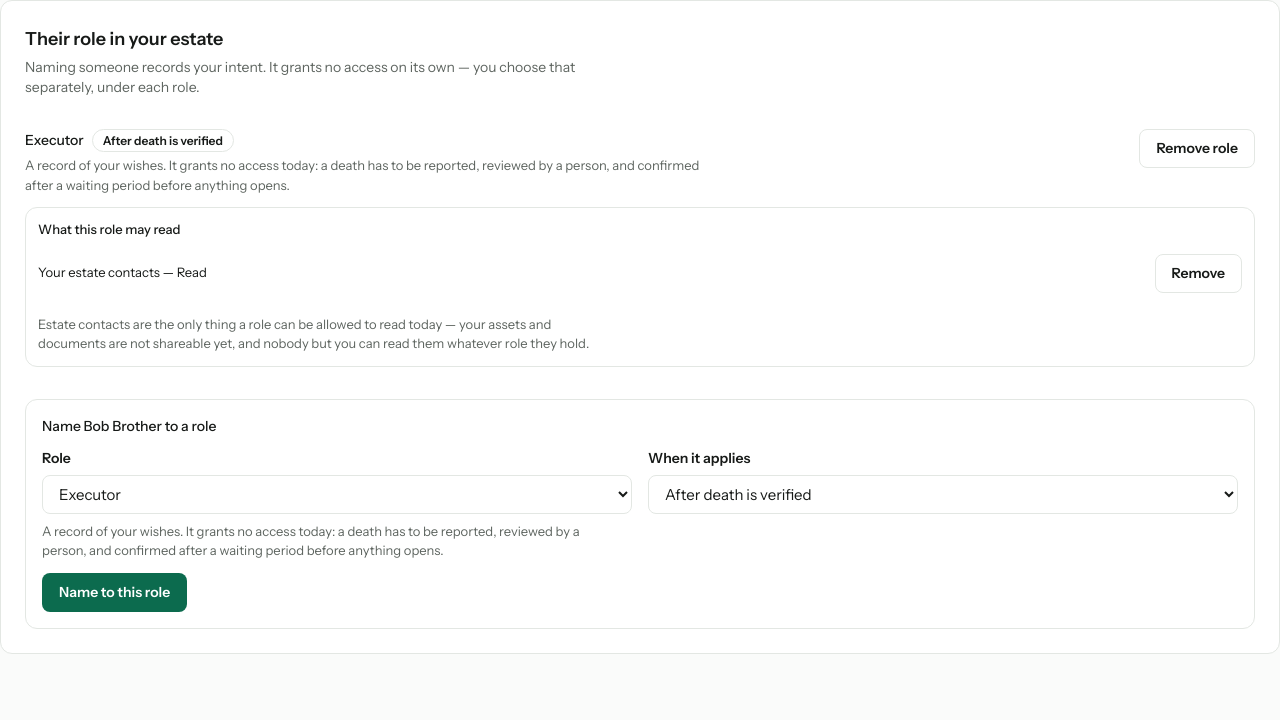
the three-way step-up asymmetry › withdraws a permission with NO code prompt at all
Expected: the text "Your estate contacts — Read" is shown, [38,263,207,283]
Click the button "Remove": point(1198, 273) [1154,254,1242,293]
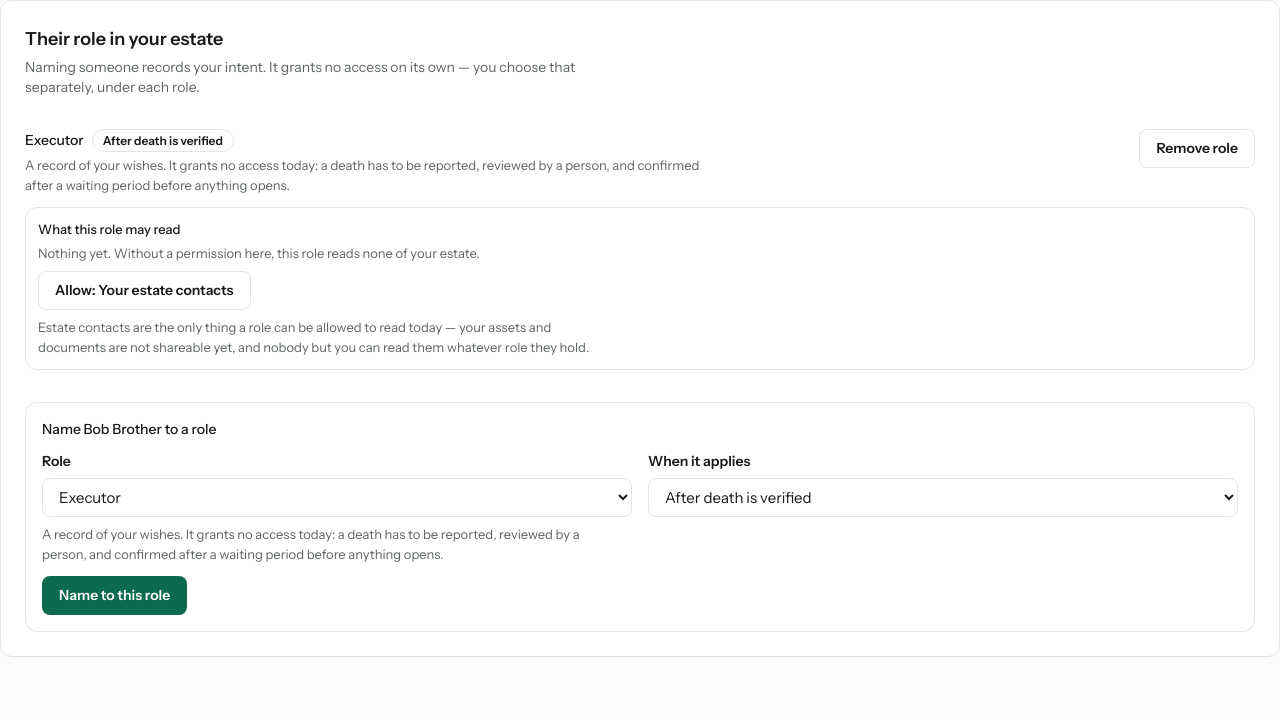
Now the text "Without a permission here, this role reads none of your estate." is shown, box [38,245,480,261]
